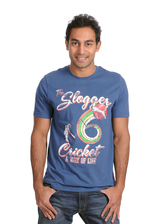clothoes: (31, 63, 133, 195)
